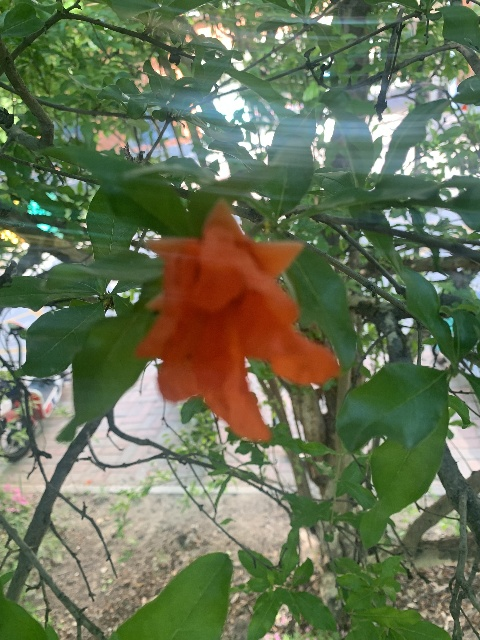flower: (134, 200, 338, 444)
